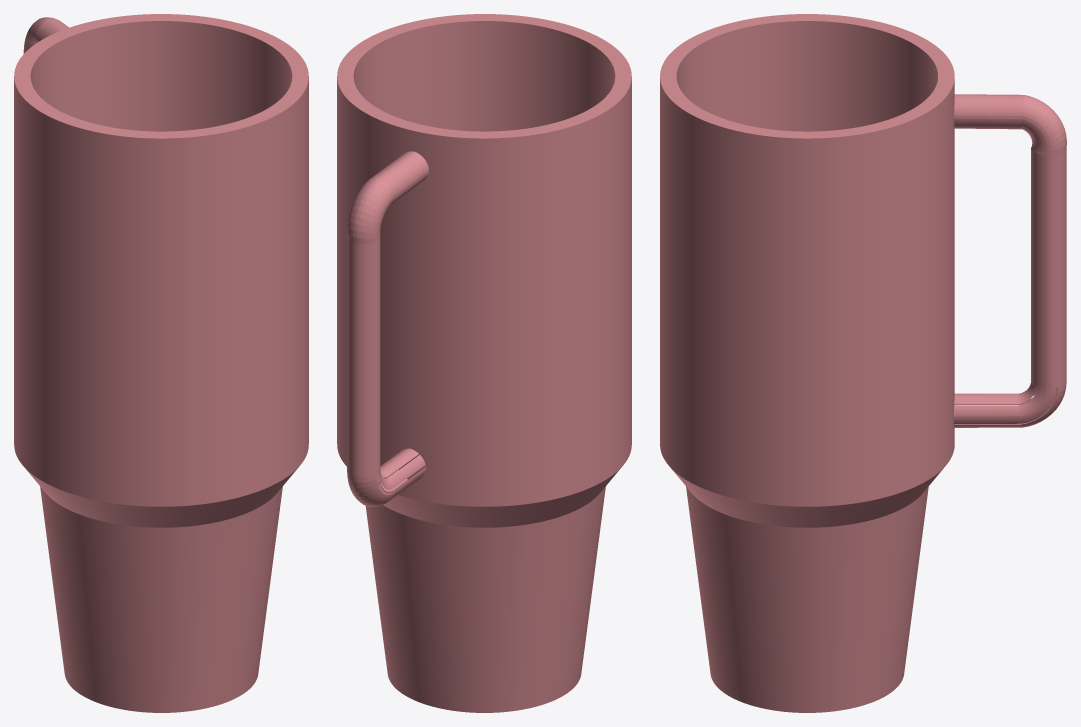
3 renders of one model, left to right at view 1: azimuth 30°, elevation 25°; view 2: azimuth 150°, elevation 25°; view 3: azimuth 270°, elevation 25°, orthographic.
Parts seen in each view (by area): view 1: Cylinder, Cube; view 2: Cylinder, Cube; view 3: Cylinder, Cube.
Boxes of the visible parts, x1=… form: Cylinder: x1=14, y1=14, x2=308, y2=712; Cube: x1=23, y1=17, x2=68, y2=53; Cylinder: x1=337, y1=14, x2=631, y2=712; Cube: x1=347, y1=151, x2=429, y2=507; Cylinder: x1=660, y1=14, x2=954, y2=712; Cube: x1=953, y1=94, x2=1066, y2=427.
Bounding box in the file's own units: 1.25 × 2.78 × 1.72.
